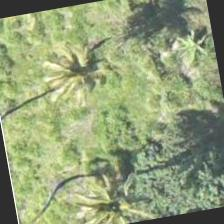Kelapa_Sawit: (24, 22, 128, 126), (61, 155, 162, 223)
